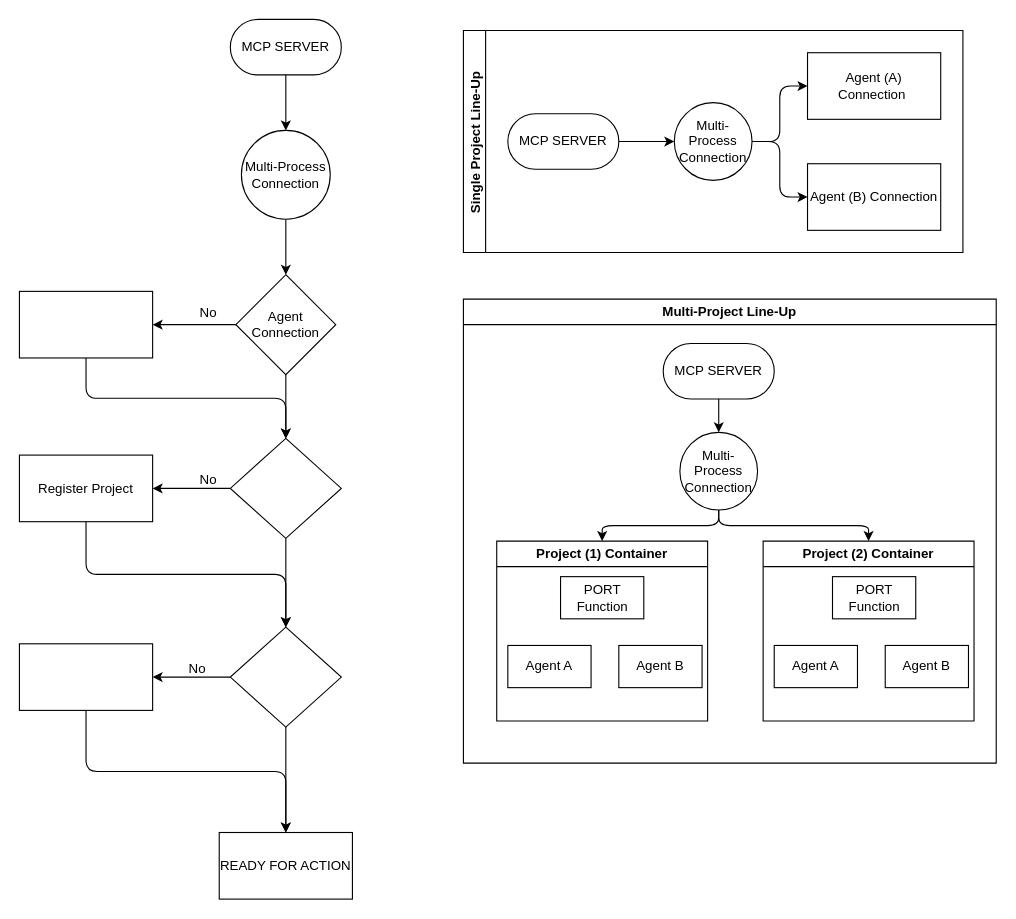
Image size: 1016x919. Some labels were removed from this diagram. The centre of each missing label's shape, as x and y in pixels:
Check For "PORT": the point at 285,676
Project Identification: the point at 285,487
Registers Agent: the point at 85,324
Registers PORT specific for the project: the point at 85,676
